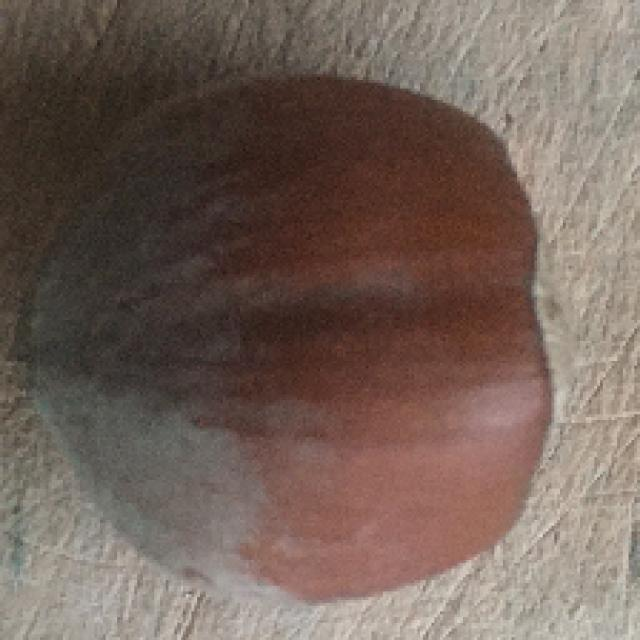QualityHazelnut: (15, 73, 568, 618)
